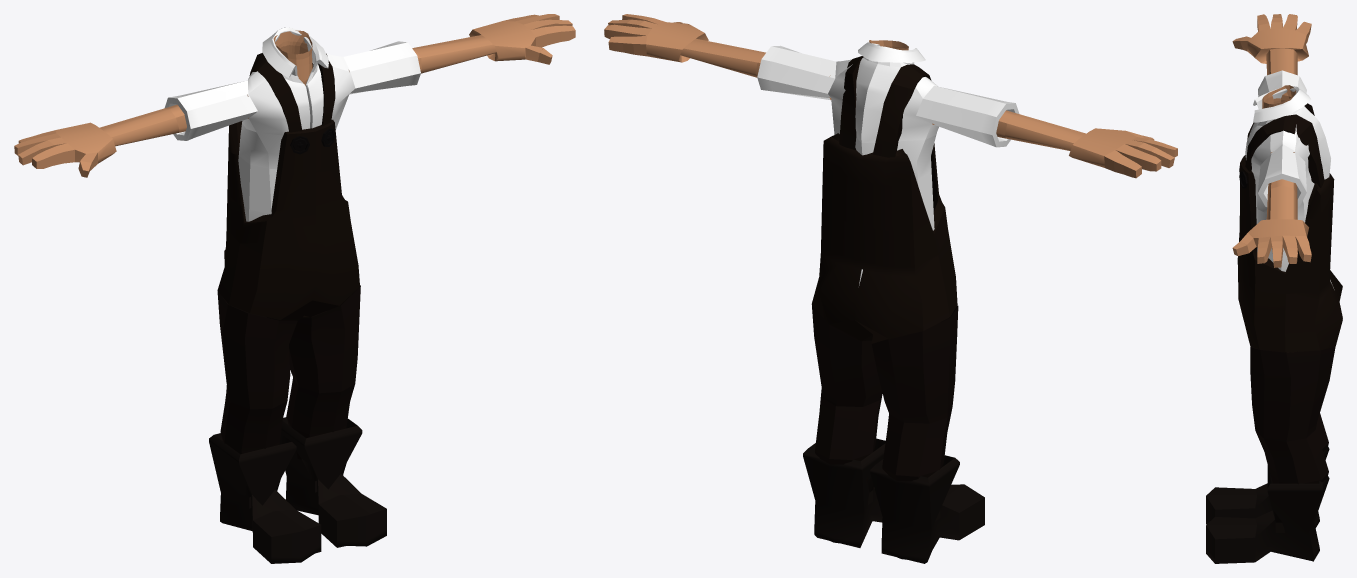
The model's file is body.obj.
The picture shows the model from 3 angles, left to right: view 1: azimuth 30°, elevation 25°; view 2: azimuth 150°, elevation 25°; view 3: azimuth 270°, elevation 25°; orthographic projection. The views are drawn at different scales.
Visible parts, largest first — view 1: ringB_left_geo; view 2: ringB_left_geo; view 3: ringB_left_geo.
Part boxes in pixels (bbox=[...]): ringB_left_geo: bbox=[14, 14, 575, 563]; ringB_left_geo: bbox=[604, 14, 1177, 563]; ringB_left_geo: bbox=[1206, 14, 1342, 563].
Bounding box in the file's own units: 62.92 × 53.43 × 14.74.
